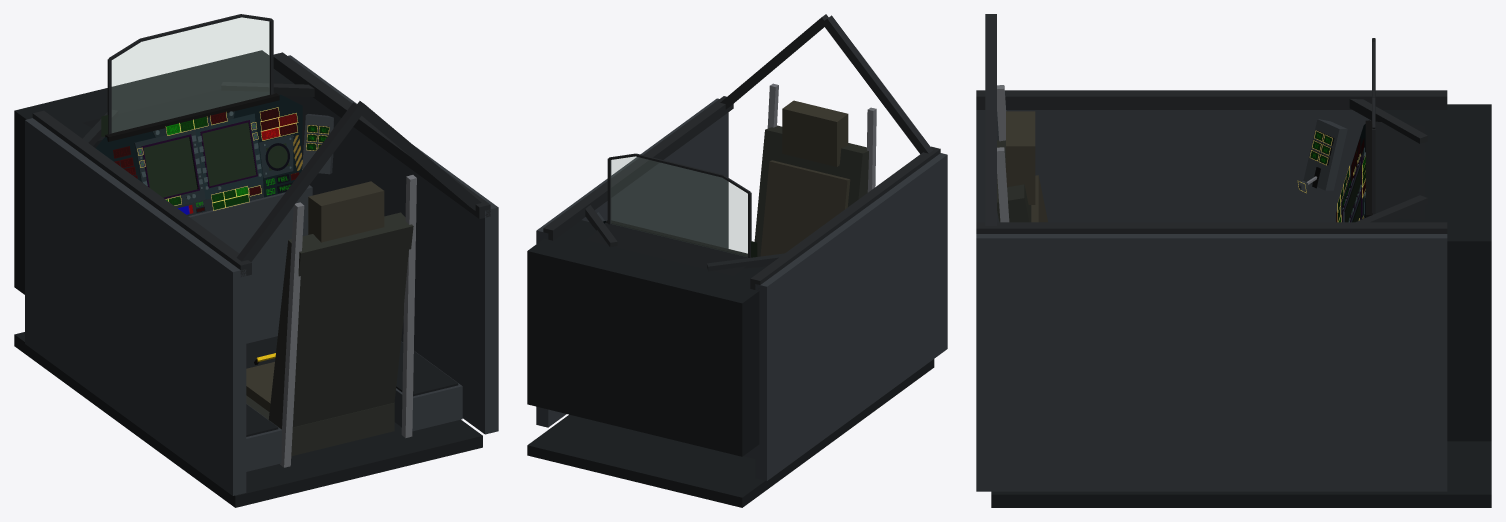
Rendered from cockpit_classic.glb.
3 renders of one model, left to right at view 1: azimuth 30°, elevation 25°; view 2: azimuth 150°, elevation 25°; view 3: azimuth 270°, elevation 25°, orthographic. The views are drawn at different scales.
Visible parts, largest first — view 1: panel_grey_102, panel_grey_106, seat_122, hud_glass_96, dark_110, dark_100, panel_grey_101, cushion_124, frame_103, frame_107, seat_120, metal_125 (+18 smaller); view 2: dark_100, panel_grey_102, dark_110, panel_grey_106, hud_glass_96, cushion_123, cushion_124, frame_107, seat_122, dark_98, frame_103, frame_117 (+5 smaller); view 3: panel_grey_106, panel_grey_102, dark_100, dark_110, frame_103, frame_107, dark_98, frame_119, cushion_124, panel_grey_496, frame_116, seat_122 (+3 smaller).
Part boxes in pixels (x1,y1,x2,y2): panel_grey_102: (25,118,246,495); panel_grey_106: (288,55,498,434); seat_122: (268,212,413,429); hud_glass_96: (112,18,269,132); dark_110: (14,332,482,507); dark_100: (14,50,309,294); panel_grey_101: (188,185,312,343); cushion_124: (308,181,384,242); frame_103: (32,110,251,276); frame_107: (273,52,490,218); seat_120: (246,395,394,456); metal_125: (280,202,304,467); dark_100: (527,220,766,456); panel_grey_102: (755,153,947,480); dark_110: (527,359,934,507); panel_grey_106: (536,98,728,427); hud_glass_96: (611,157,747,256); cushion_123: (760,160,850,256); cushion_124: (782,100,848,166); frame_107: (543,96,733,240); seat_122: (754,125,868,256); dark_98: (586,222,747,276); frame_103: (750,146,940,289); frame_117: (822,15,932,153); panel_grey_106: (976,234,1447,491); panel_grey_102: (976,110,1370,222); dark_100: (1383,104,1491,441); dark_110: (991,441,1491,507); frame_103: (976,90,1447,109); frame_107: (976,222,1447,233); dark_98: (1373,121,1424,220); frame_119: (985,17,996,225); cushion_124: (1006,111,1035,204); panel_grey_496: (1303,119,1347,190); frame_116: (1349,99,1427,143); seat_122: (997,140,1031,222).
Bounding box in the file's own units: 1.18 × 1.59 × 1.75.
Materials: 31 (14 with a texture image).
